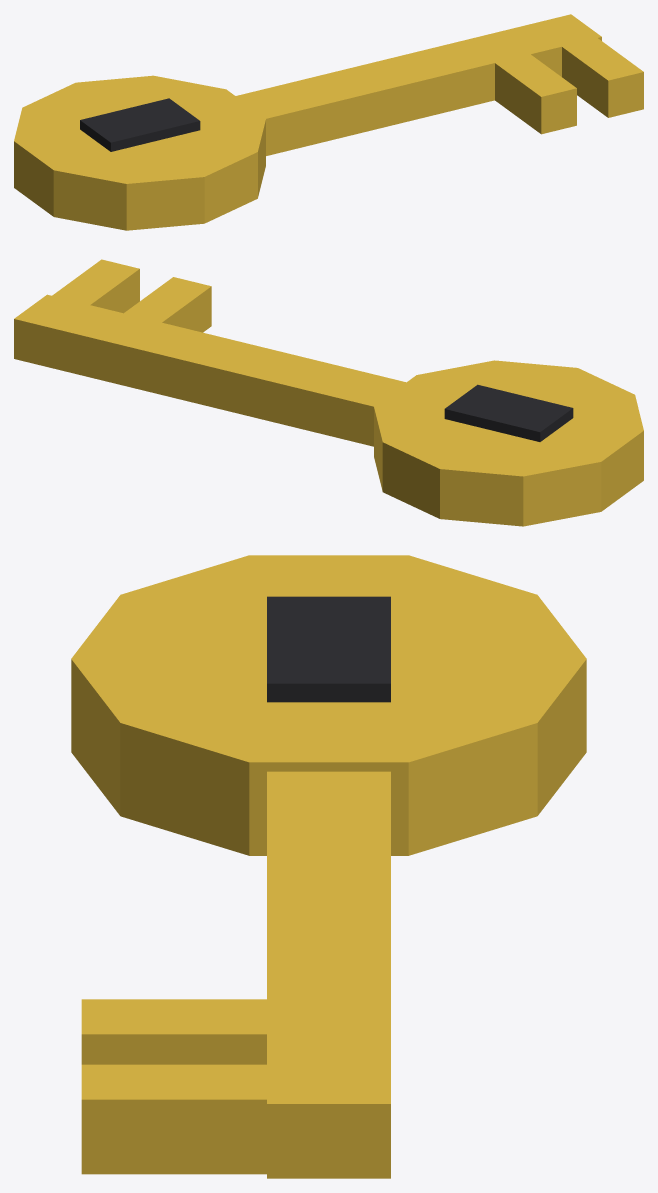
Rendered from floor_key.glb.
The picture shows the model from 3 angles, top to bottom: view 1: azimuth 30°, elevation 25°; view 2: azimuth 150°, elevation 25°; view 3: azimuth 270°, elevation 25°; orthographic projection. The views are drawn at different scales.
Parts seen in each view (by area): view 1: bow_key_gold, shaft_key_gold, bit_key_gold, number_key_number; view 2: bow_key_gold, shaft_key_gold, bit_key_gold, number_key_number; view 3: bow_key_gold, shaft_key_gold, bit_key_gold, number_key_number.
Part boxes in pixels (x1=…): bow_key_gold: x1=14, y1=75, x2=265, y2=230; shaft_key_gold: x1=236, y1=14, x2=601, y2=155; bit_key_gold: x1=490, y1=35, x2=643, y2=134; number_key_number: x1=80, y1=98, x2=200, y2=151; bow_key_gold: x1=374, y1=360, x2=643, y2=526; shaft_key_gold: x1=14, y1=294, x2=405, y2=446; bit_key_gold: x1=47, y1=259, x2=211, y2=332; number_key_number: x1=444, y1=384, x2=573, y2=441; bow_key_gold: x1=71, y1=555, x2=586, y2=855; shaft_key_gold: x1=267, y1=771, x2=390, y2=1178; bit_key_gold: x1=81, y1=999, x2=285, y2=1174; number_key_number: x1=267, y1=596, x2=390, y2=702.
Bounding box in the file's own units: 0.1238 × 0.012 × 0.05.
